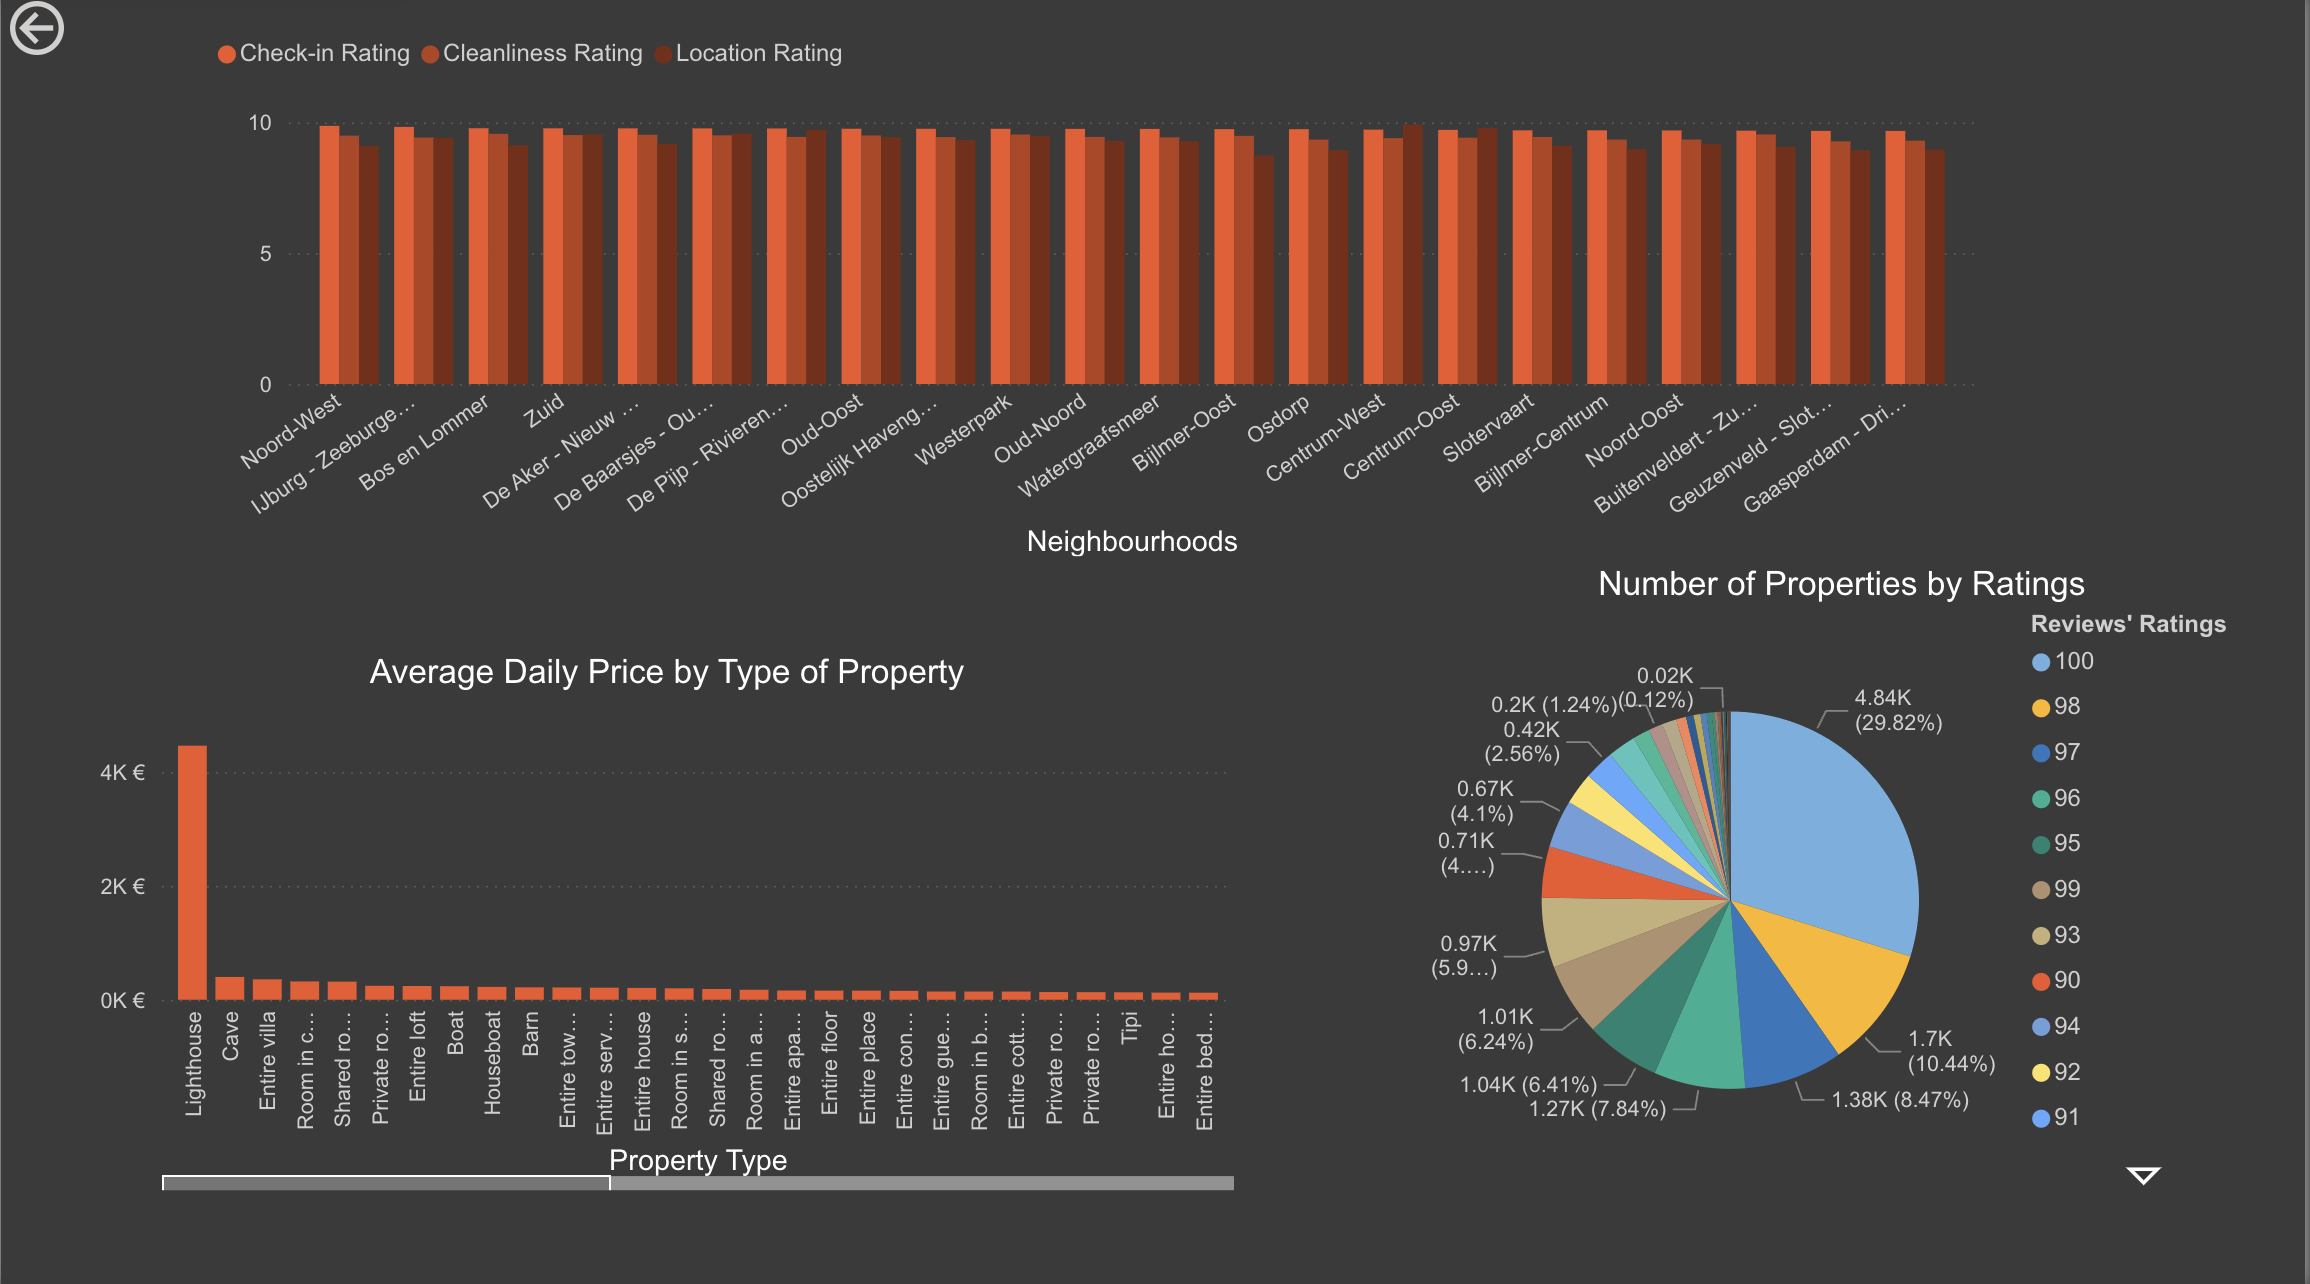

The dashboard page shown, as its layout file describes it:
{"tool":"powerbi","page":{"name":"Page 1","canvas":[1280,720],"ordinal":2},"visuals":[{"type":"clusteredColumnChart","fields":{"Category":["dimProperty.neighbourhood"],"Y":["Avg(dimProperty.review_scores_checkin)","Avg(dimProperty.review_scores_cleanliness)","Avg(dimProperty.review_scores_location)"]},"box":[114.3,14.1,987.3,304.2],"z":0},{"type":"pieChart","title":"Number of Properties by Ratings","fields":{"Y":["CountNonNull(dimProperty.propertyid)"],"Category":["dimProperty.review_scores_rating"]},"box":[788.6,318.2,467.7,352.5],"z":1000},{"type":"actionButton","box":[0,0,100,40],"z":2000},{"type":"clusteredColumnChart","title":"Average Daily Price by Type of Property","fields":{"Category":["dimProperty.property_type"],"Y":["Avg(dimProperty.Daily_Price)"]},"box":[50.1,366.6,640,304.2],"z":3000}]}

Visuals, with their boxes in screenshot pixels (x1, y1, x2, y2), scaled from the page's 1280x720 canvas onto the 2310x1284 screenshot:
clusteredColumnChart - dimProperty.neighbourhood x Avg(dimProperty.review_scores_checkin): 206,25,1988,568
"Number of Properties by Ratings" pieChart: 1423,567,2267,1196
actionButton: 0,0,180,71
"Average Daily Price by Type of Property" clusteredColumnChart: 90,654,1245,1196
